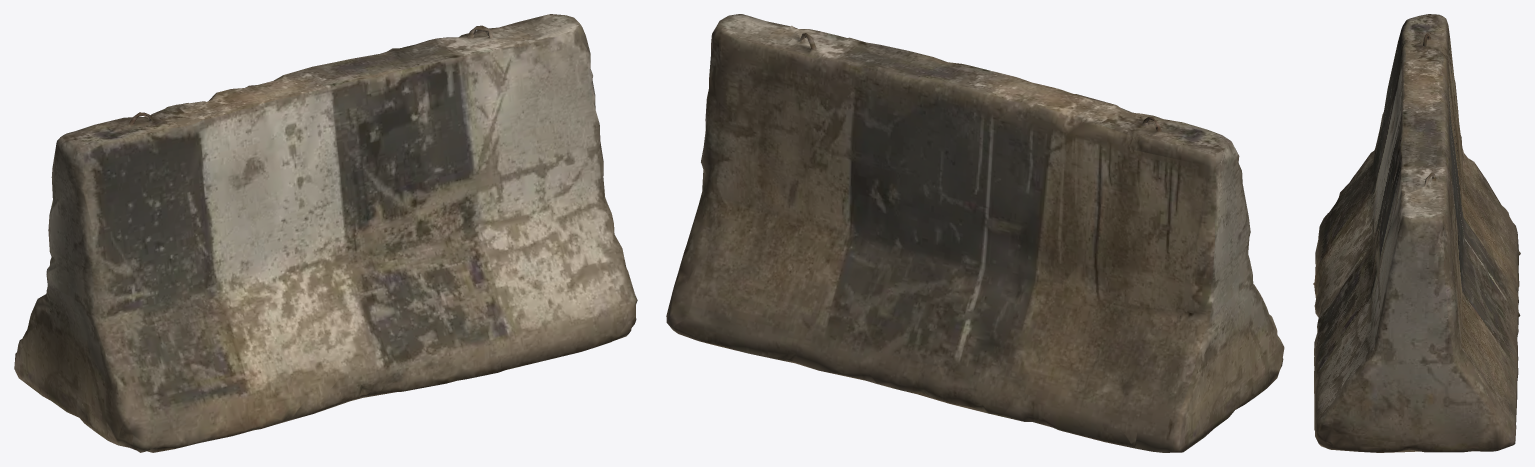
File: concrete_road_barrier.glb
3 renders of one model, left to right at view 1: azimuth 30°, elevation 25°; view 2: azimuth 150°, elevation 25°; view 3: azimuth 270°, elevation 25°, orthographic. The views are drawn at different scales.
Parts seen in each view (by area): view 1: concrete_road_barrier; view 2: concrete_road_barrier; view 3: concrete_road_barrier.
Part boxes in pixels (<box>): concrete_road_barrier: <box>14,14,637,452</box>; concrete_road_barrier: <box>666,14,1284,452</box>; concrete_road_barrier: <box>1313,14,1520,452</box>.
Bounding box in the file's own units: 1.54 × 0.8299 × 0.6387.
1 material, 1 textured.
